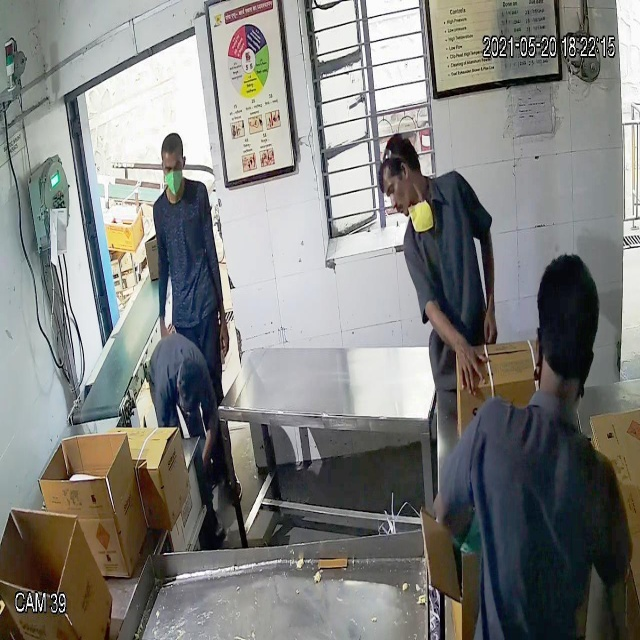Sin_gafas: (378, 173, 410, 207)
